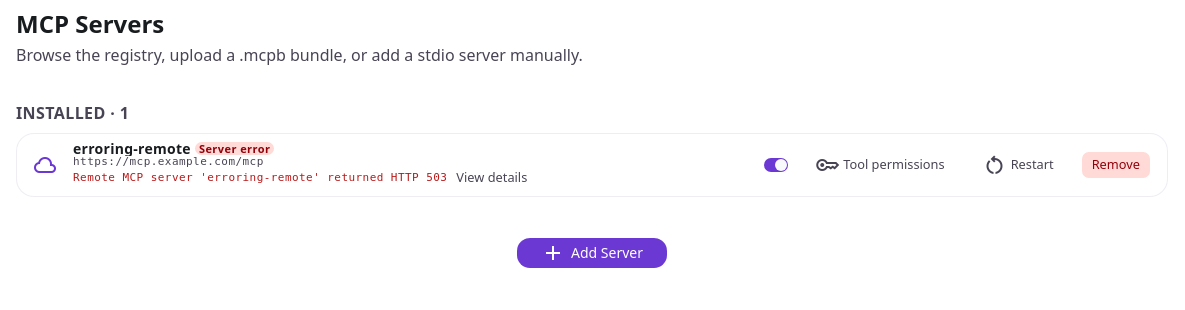
McpServers (Cursor-style UX) › renders a server_error remote row with retry and view details
The width and height of the screenshot is (1185, 310).
Expected: the text "Server error" is shown, top-left (195, 142), bottom-right (274, 155)
Expected: the text "Remote MCP server 'erroring-remote' returned HTTP 503" is shown, top-left (73, 172), bottom-right (447, 183)
Click the button "View details" at coordinates (492, 177), box top-left (451, 167), bottom-right (532, 188)
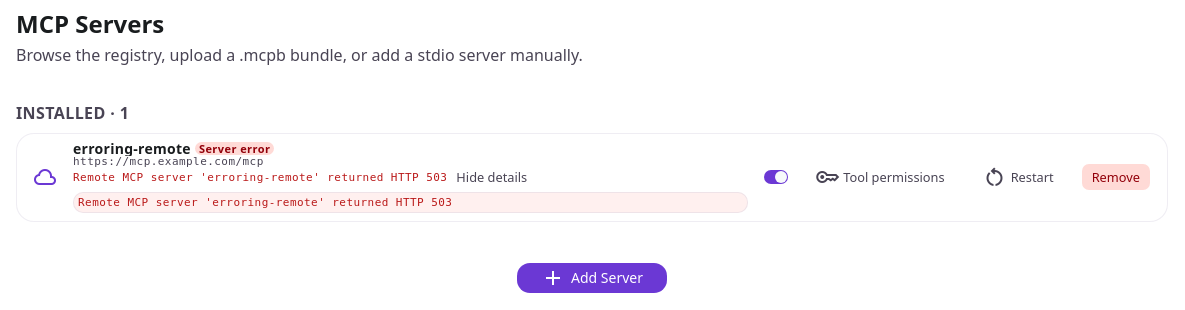
Now the button "Hide details" is shown
Click the button "Hide details" at coordinates (492, 177), box top-left (451, 167), bottom-right (532, 188)
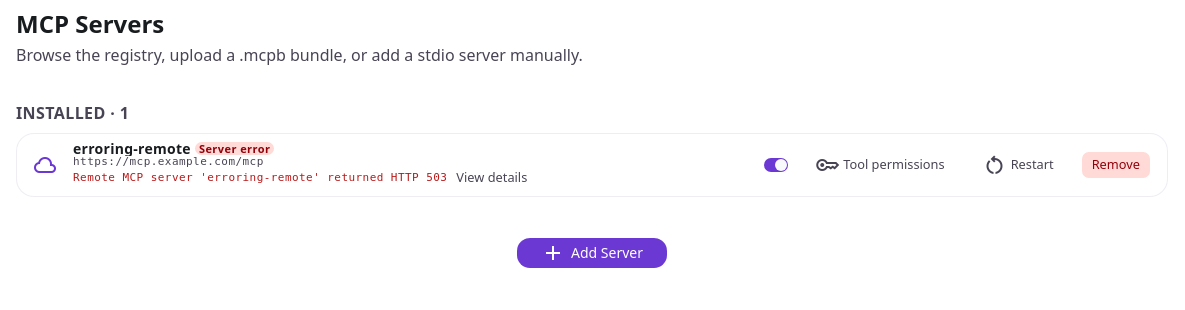
Now the button "View details" is shown, box top-left (451, 167), bottom-right (532, 188)
